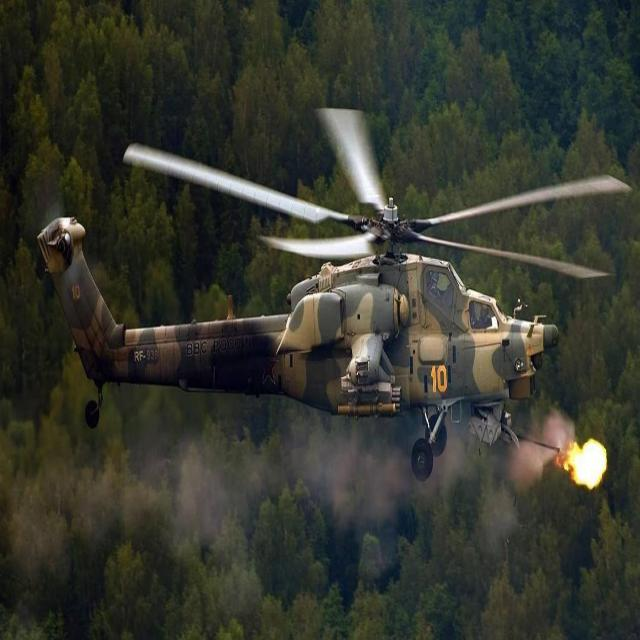MIL_HELO: (31, 107, 640, 481)
